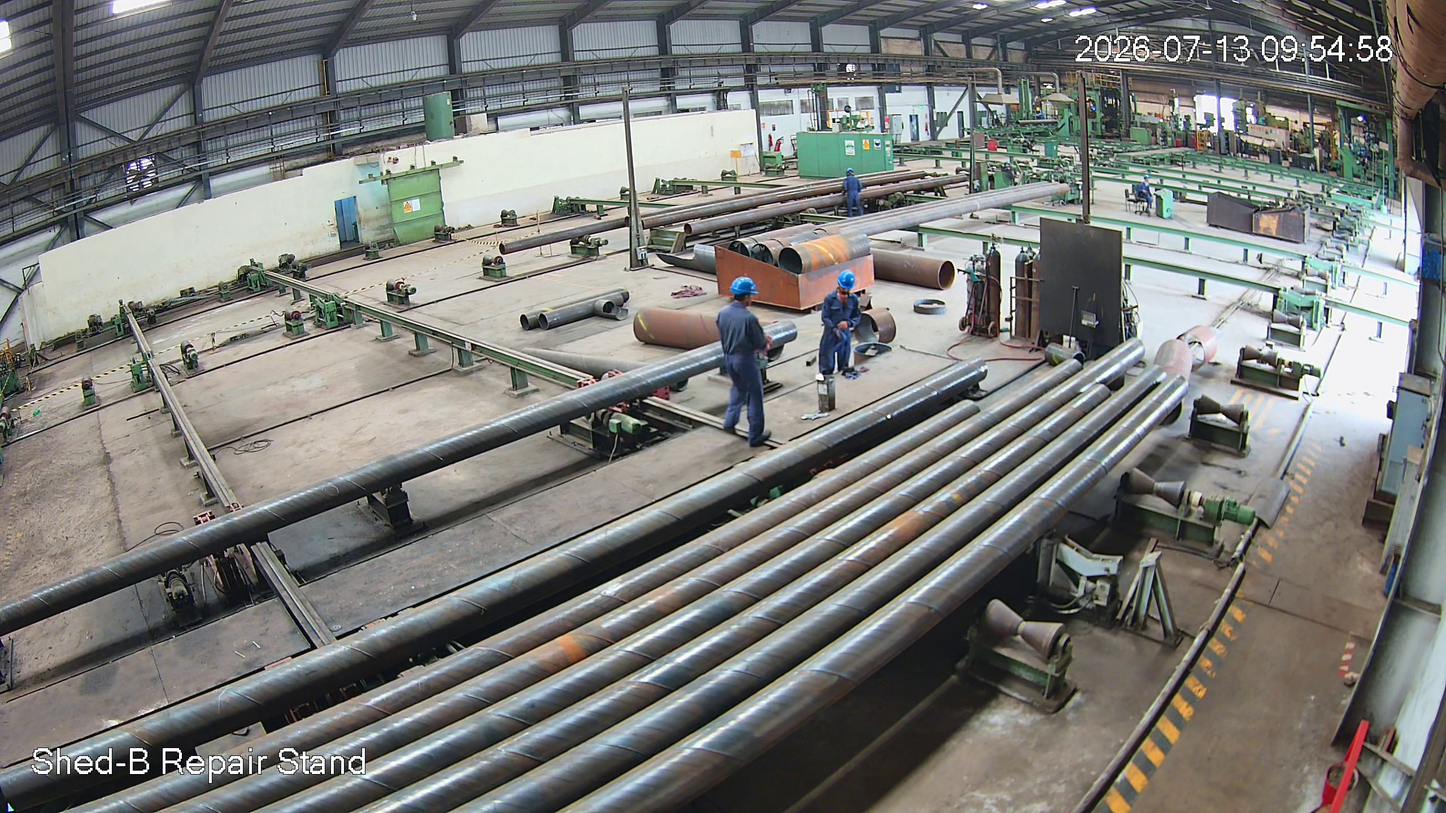Helmet: (724, 273, 766, 316), (836, 265, 865, 297)
Person: (712, 277, 780, 448), (816, 268, 862, 379)
